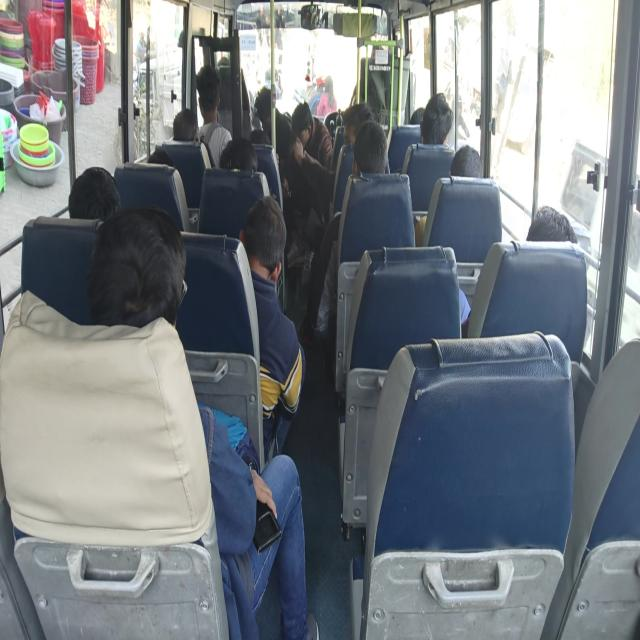person: (107, 220, 188, 320), (516, 203, 592, 262), (251, 193, 293, 267), (68, 165, 119, 220), (447, 140, 483, 191), (421, 99, 455, 152), (252, 94, 288, 143), (168, 110, 206, 148), (294, 109, 323, 155), (222, 146, 259, 181), (359, 134, 386, 176), (337, 106, 361, 142), (198, 69, 216, 117), (367, 41, 390, 77), (144, 149, 177, 170), (246, 124, 271, 148), (409, 112, 428, 132)
